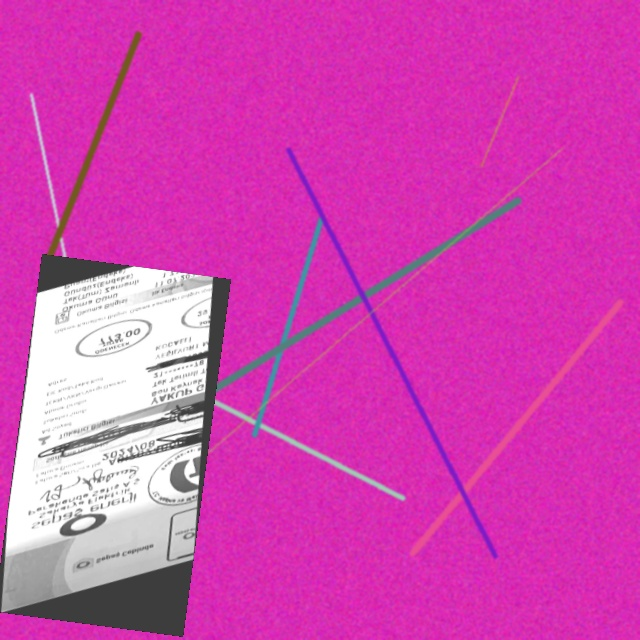electricity-bill: (0, 253, 231, 636)
